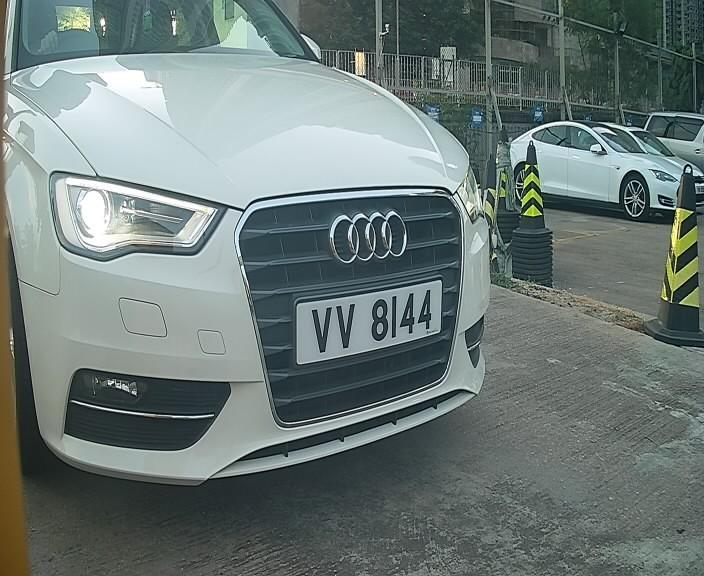License Plate: (286, 265, 450, 368)
